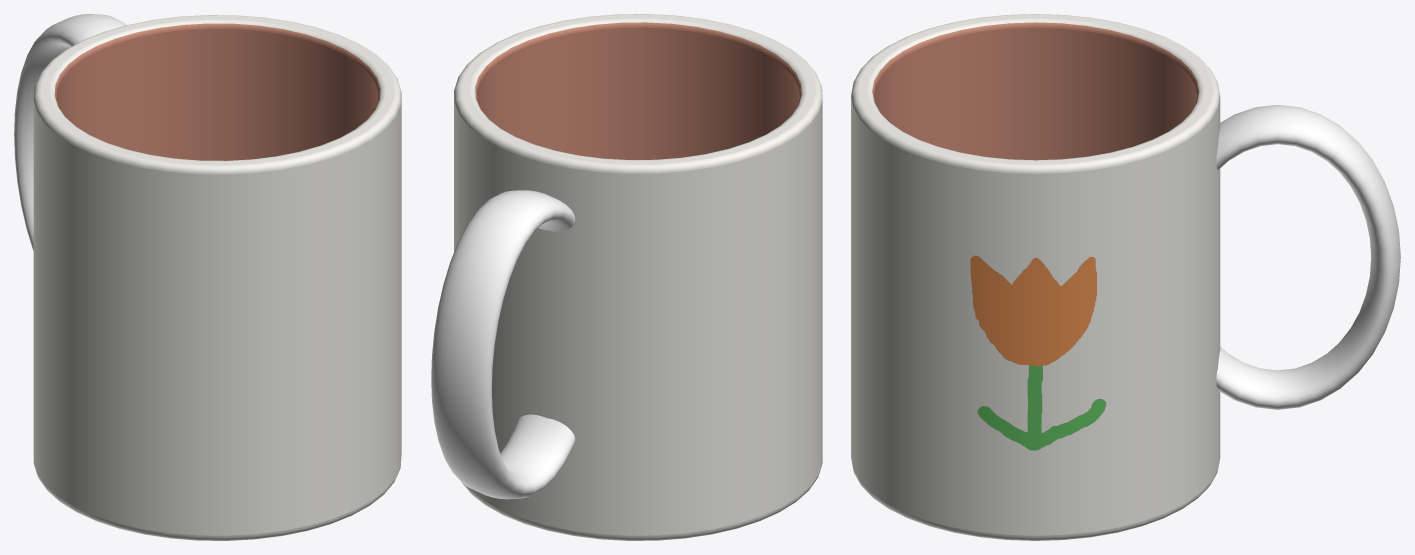
Rendered from CoffeCup.obj.
The picture shows the model from 3 angles, left to right: view 1: azimuth 30°, elevation 25°; view 2: azimuth 150°, elevation 25°; view 3: azimuth 270°, elevation 25°; orthographic projection.
Visible parts, largest first — view 1: Mesh3 Group2 Model, Mesh1 Group1 Model; view 2: Mesh3 Group2 Model, Mesh1 Group1 Model; view 3: Mesh3 Group2 Model, Mesh1 Group1 Model, Mesh2 Shape_Bender_Component1 Group2 Model.
Boxes of the visible parts, x1,y1,x2,y2 form: Mesh3 Group2 Model: (33,15,401,540); Mesh1 Group1 Model: (14,14,126,251); Mesh3 Group2 Model: (454,14,822,540); Mesh1 Group1 Model: (431,190,575,499); Mesh3 Group2 Model: (851,14,1220,540); Mesh1 Group1 Model: (1216,104,1400,409); Mesh2 Shape_Bender_Component1 Group2 Model: (970,255,1106,450).
Size of the model in its own units: 3.17 by 3.54 by 4.69.
4 materials, 1 textured.
